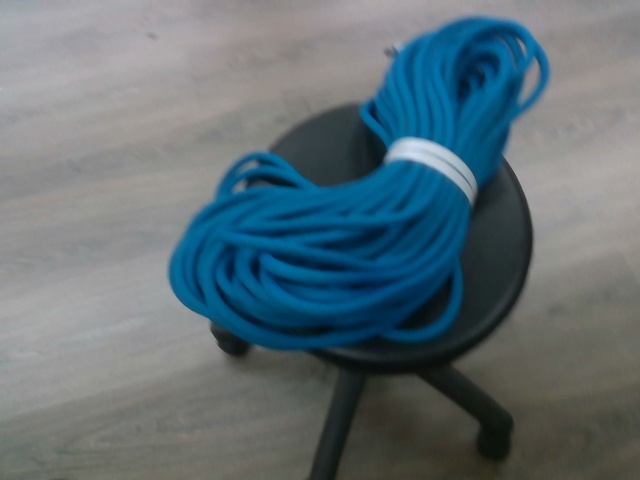rope: (159, 10, 556, 357)
